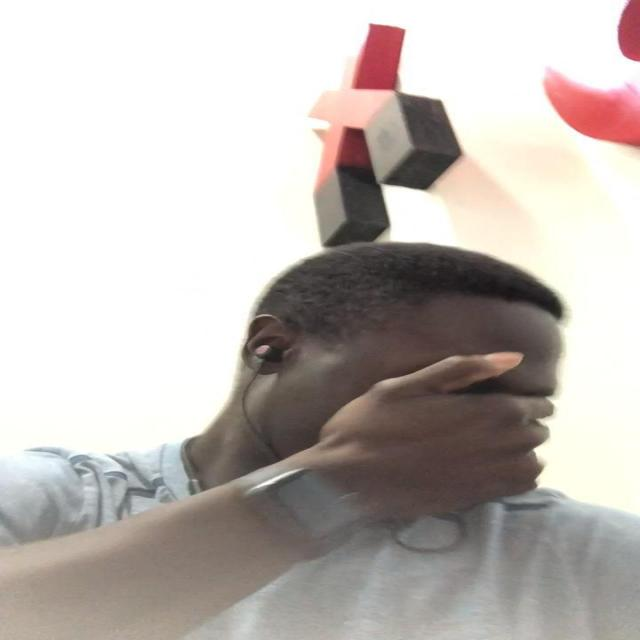face: (268, 314, 570, 484)
